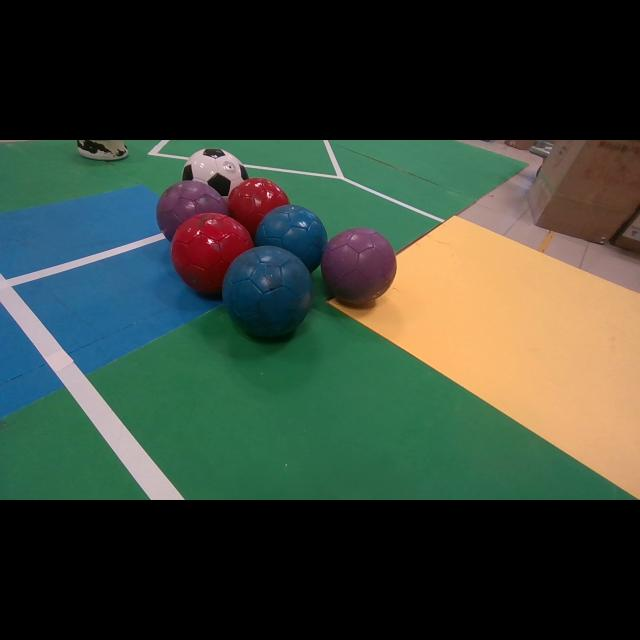B: (222, 246, 312, 338), (255, 205, 328, 271)
P: (321, 228, 396, 304), (156, 180, 229, 241)
R: (171, 212, 254, 294), (228, 178, 290, 238)
